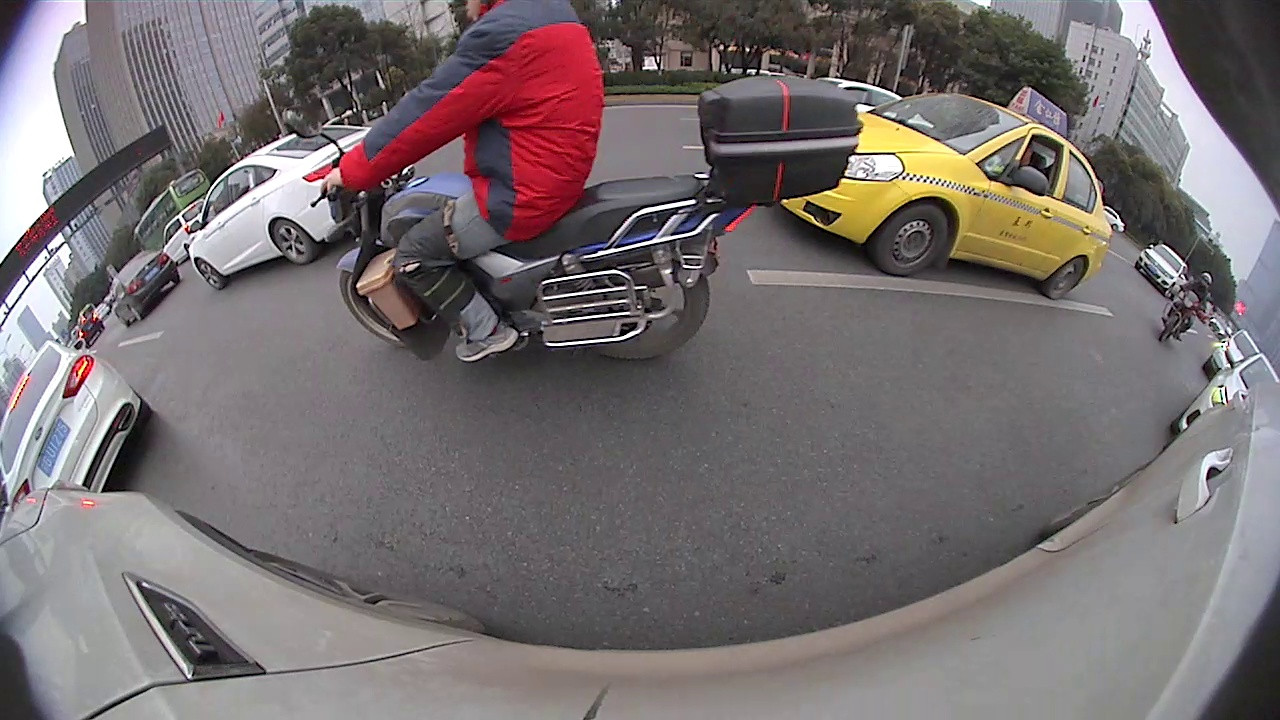bus: (135, 168, 209, 253)
car: (788, 87, 1117, 298), (188, 124, 375, 288), (2, 343, 151, 501), (1178, 357, 1277, 435), (109, 250, 180, 327), (164, 200, 219, 259), (1134, 243, 1189, 293), (1204, 330, 1260, 376)
front: (342, 264, 443, 352), (871, 201, 946, 272), (192, 258, 227, 294)
rear: (591, 237, 710, 362), (270, 216, 317, 266), (1045, 257, 1092, 299)
rider: (312, 1, 853, 357), (1154, 272, 1217, 343)
